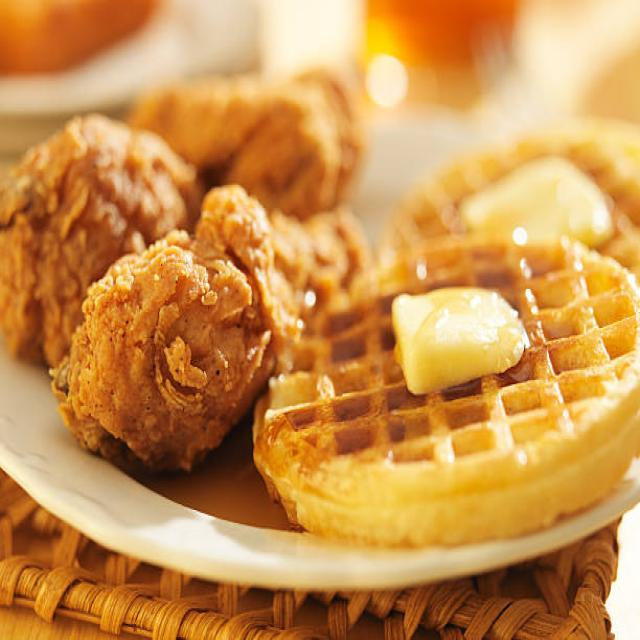Frango: (0, 62, 370, 470)
